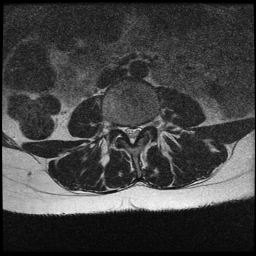CCS_stenosis: (129, 119, 135, 151)
LFS_stenosis: (142, 112, 151, 134)
LLS_stenosis: (135, 117, 142, 142)
RFS_stenosis: (113, 115, 122, 135)
RLS_stenosis: (121, 118, 129, 142)
